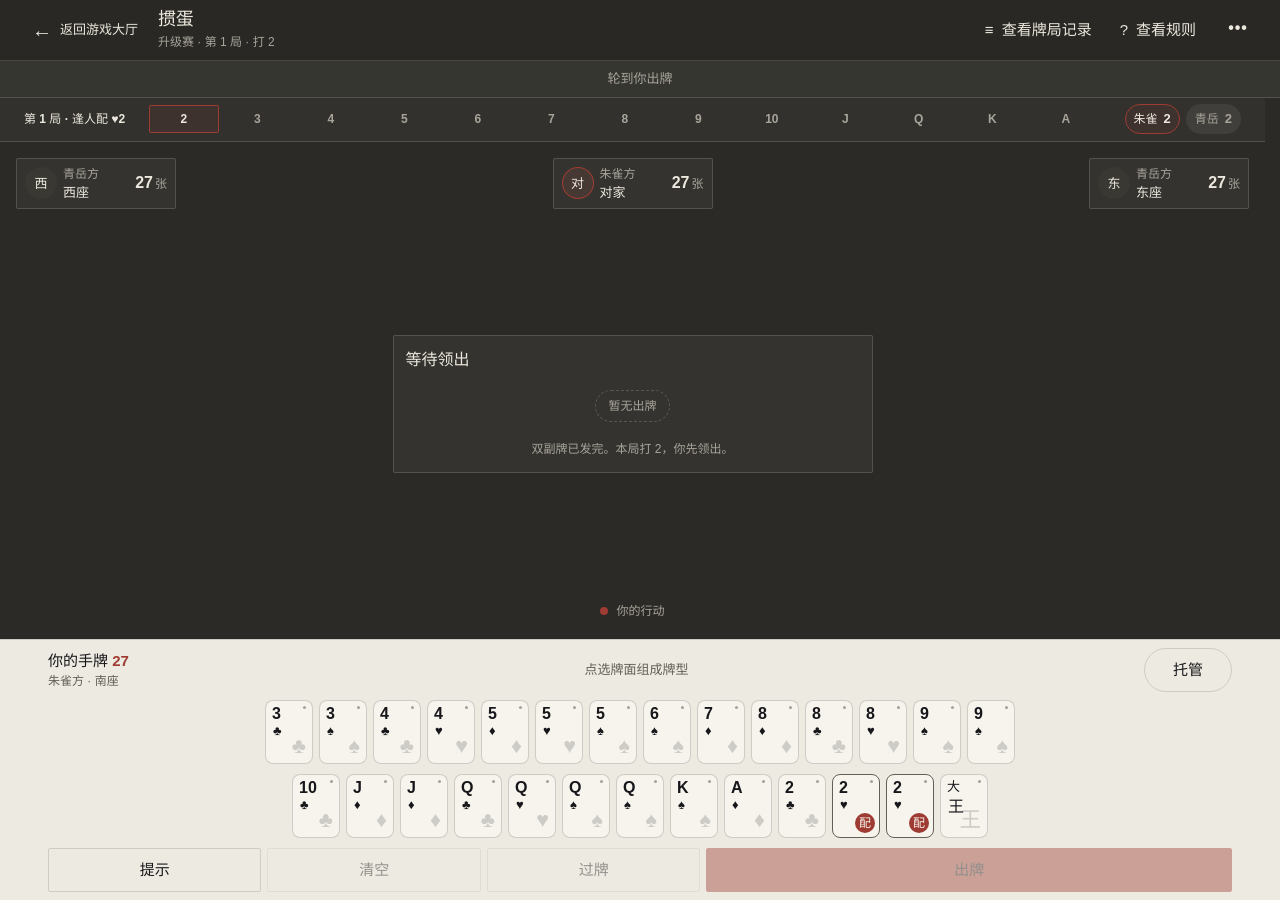
it: GuandanGame hand interaction › exposes explicit selection feedback and clears the complete selection in one action
Click the button with class "gd-card" showing "3 ♣ ♣": (289, 732) [265,700,313,764]
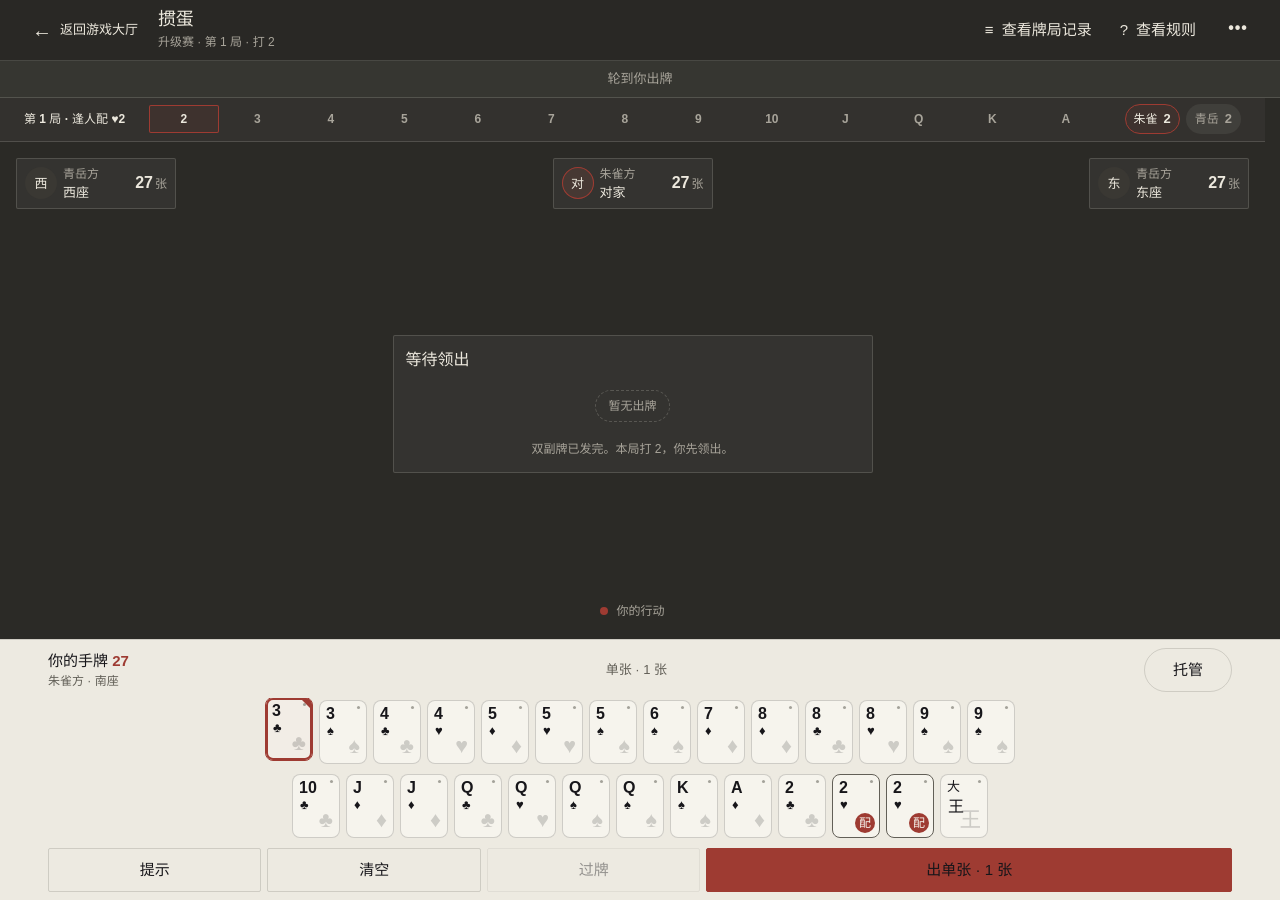
Expected: the button "清空" is enabled
Click the button "清空": (374, 870) [268,848,481,892]
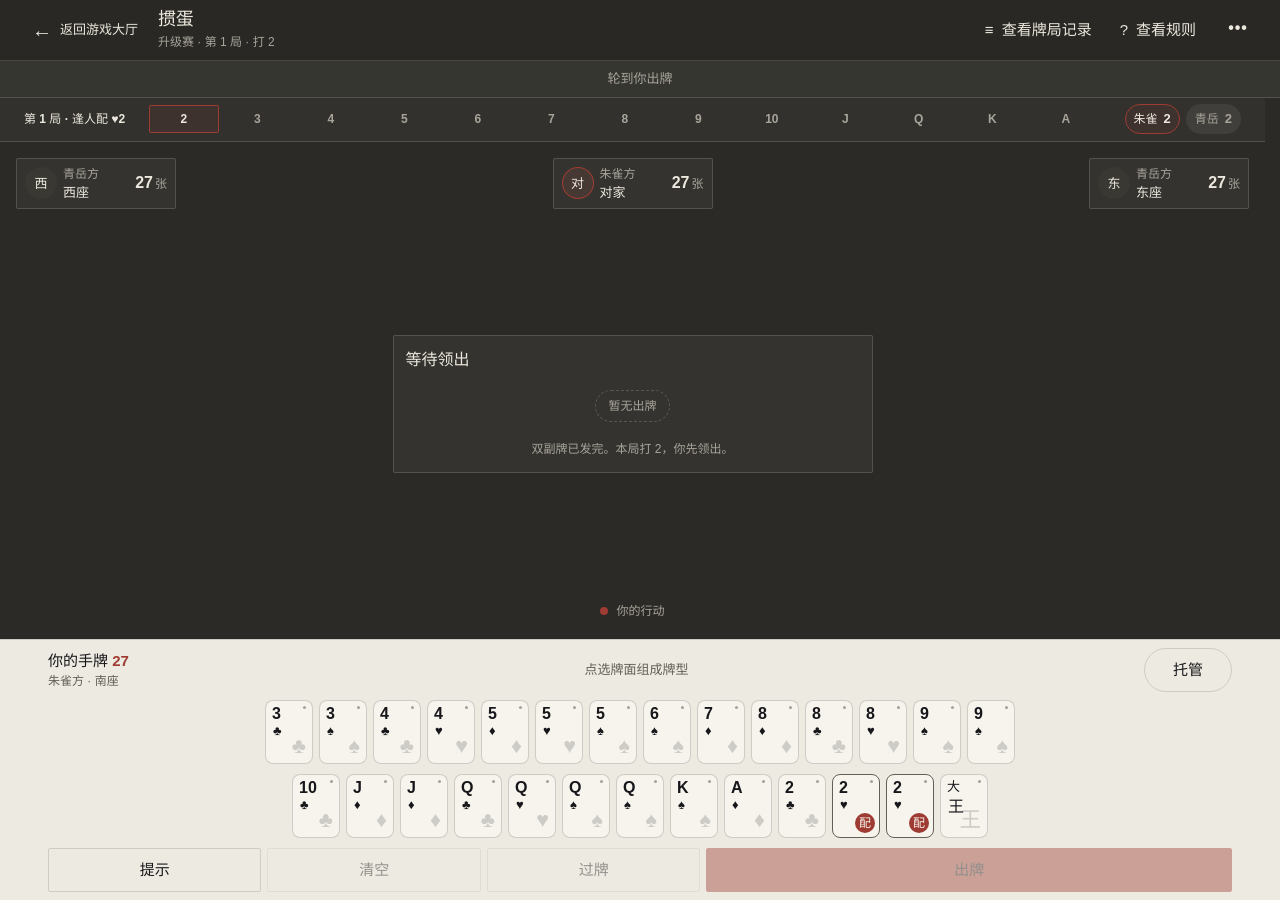
Expected: the button "出牌" is disabled, [706,848,1232,892]
